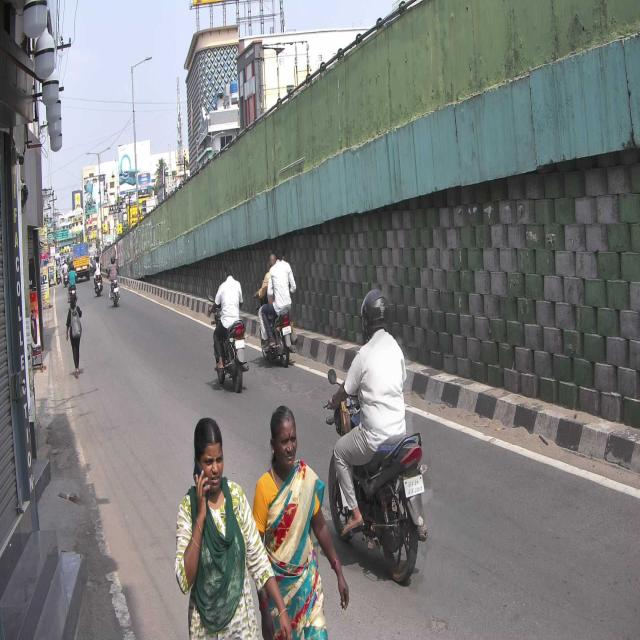single_rider: (325, 287, 427, 585), (208, 262, 251, 394)
